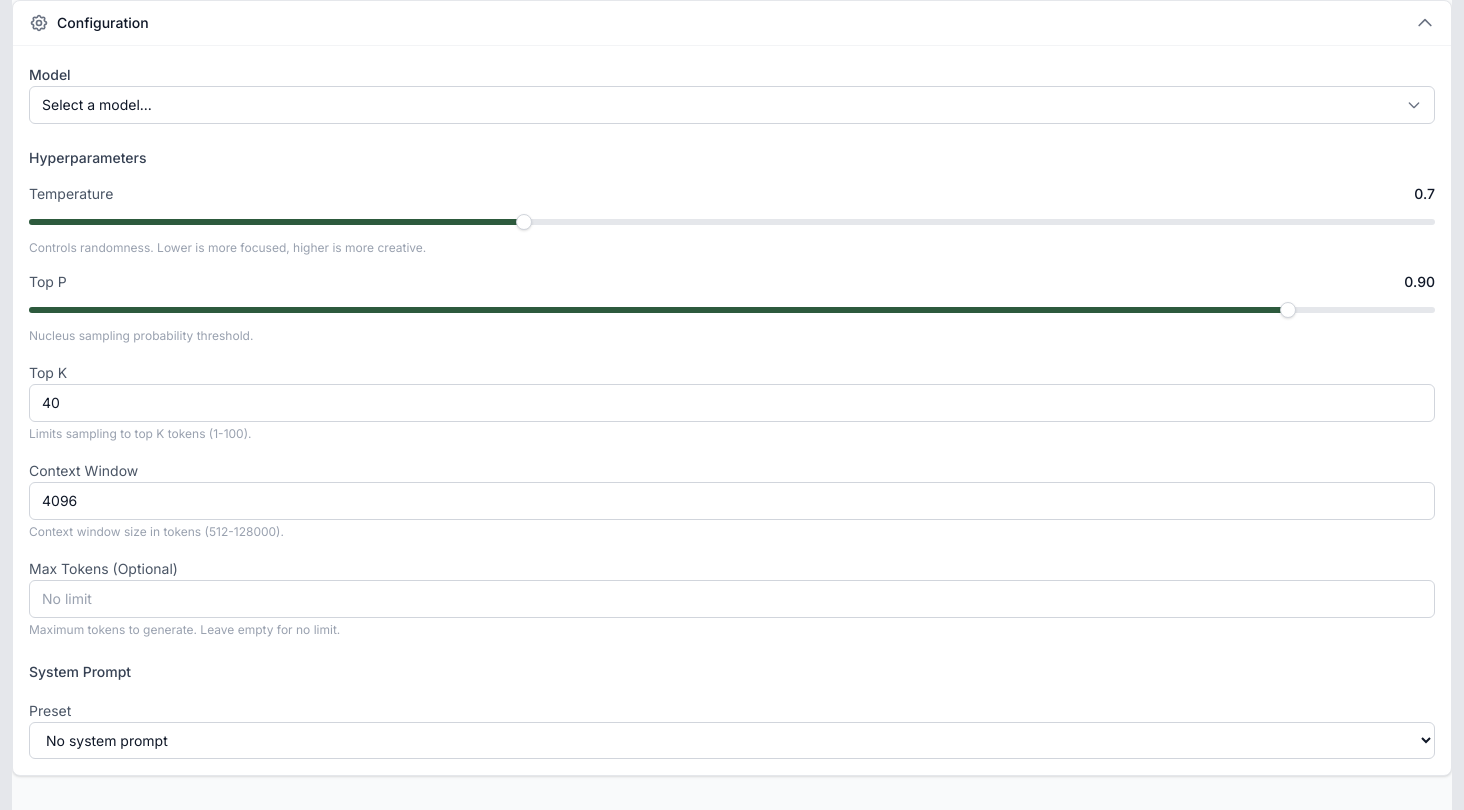
Scenario: ConfigPanel › system prompt section › shows custom prompt textarea when custom option is selected
Select "Custom prompt..." in the dropdown with test id "config-panel-system-prompt-select" at (732, 740), box x1=29 y1=722 x2=1435 y2=759
(page scrolled)
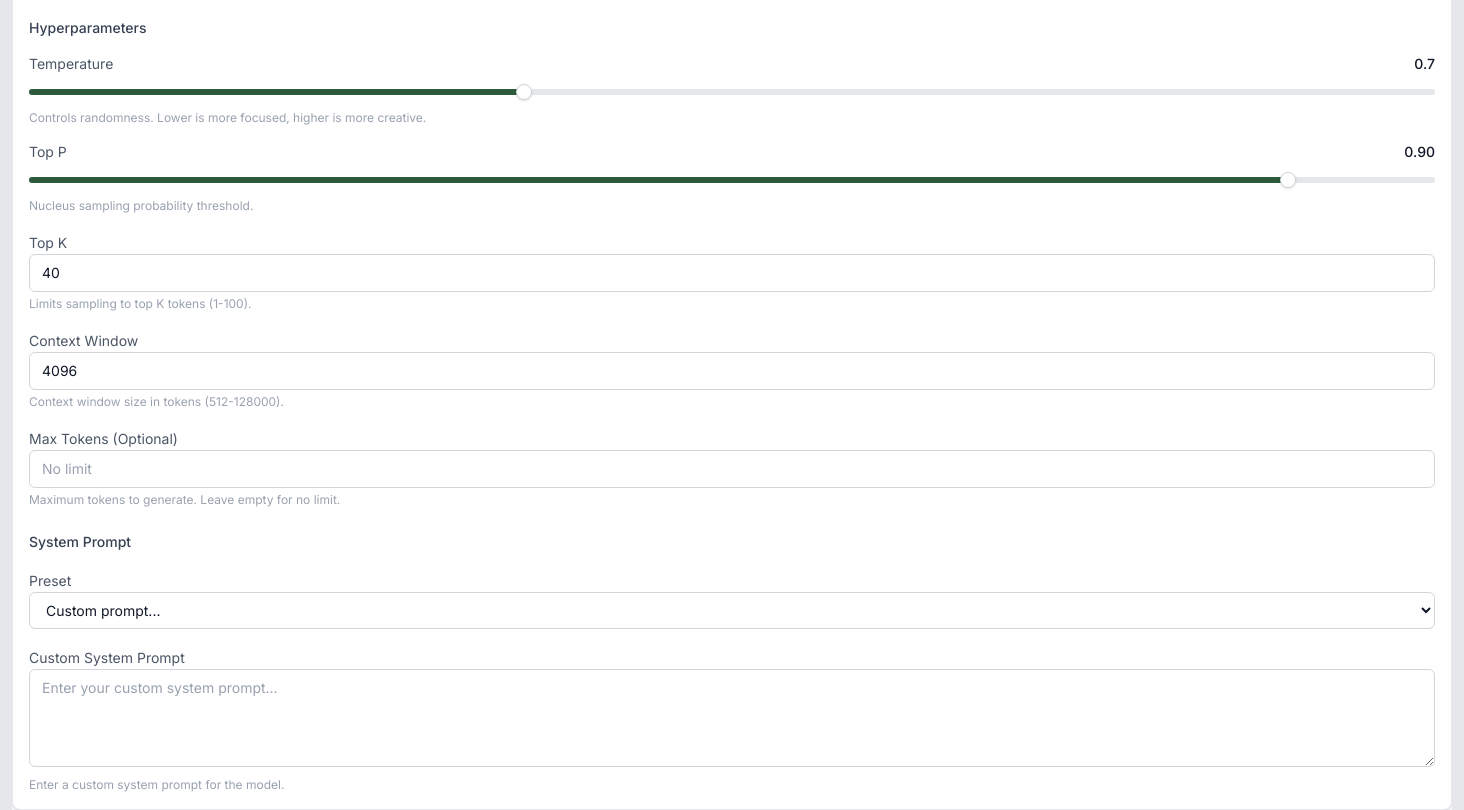
Expected: the element with test id "config-panel-custom-prompt" is shown, x1=29 y1=645 x2=1435 y2=793
Expected: the text box with test id "config-panel-custom-prompt-textarea" is shown, x1=29 y1=669 x2=1435 y2=767
